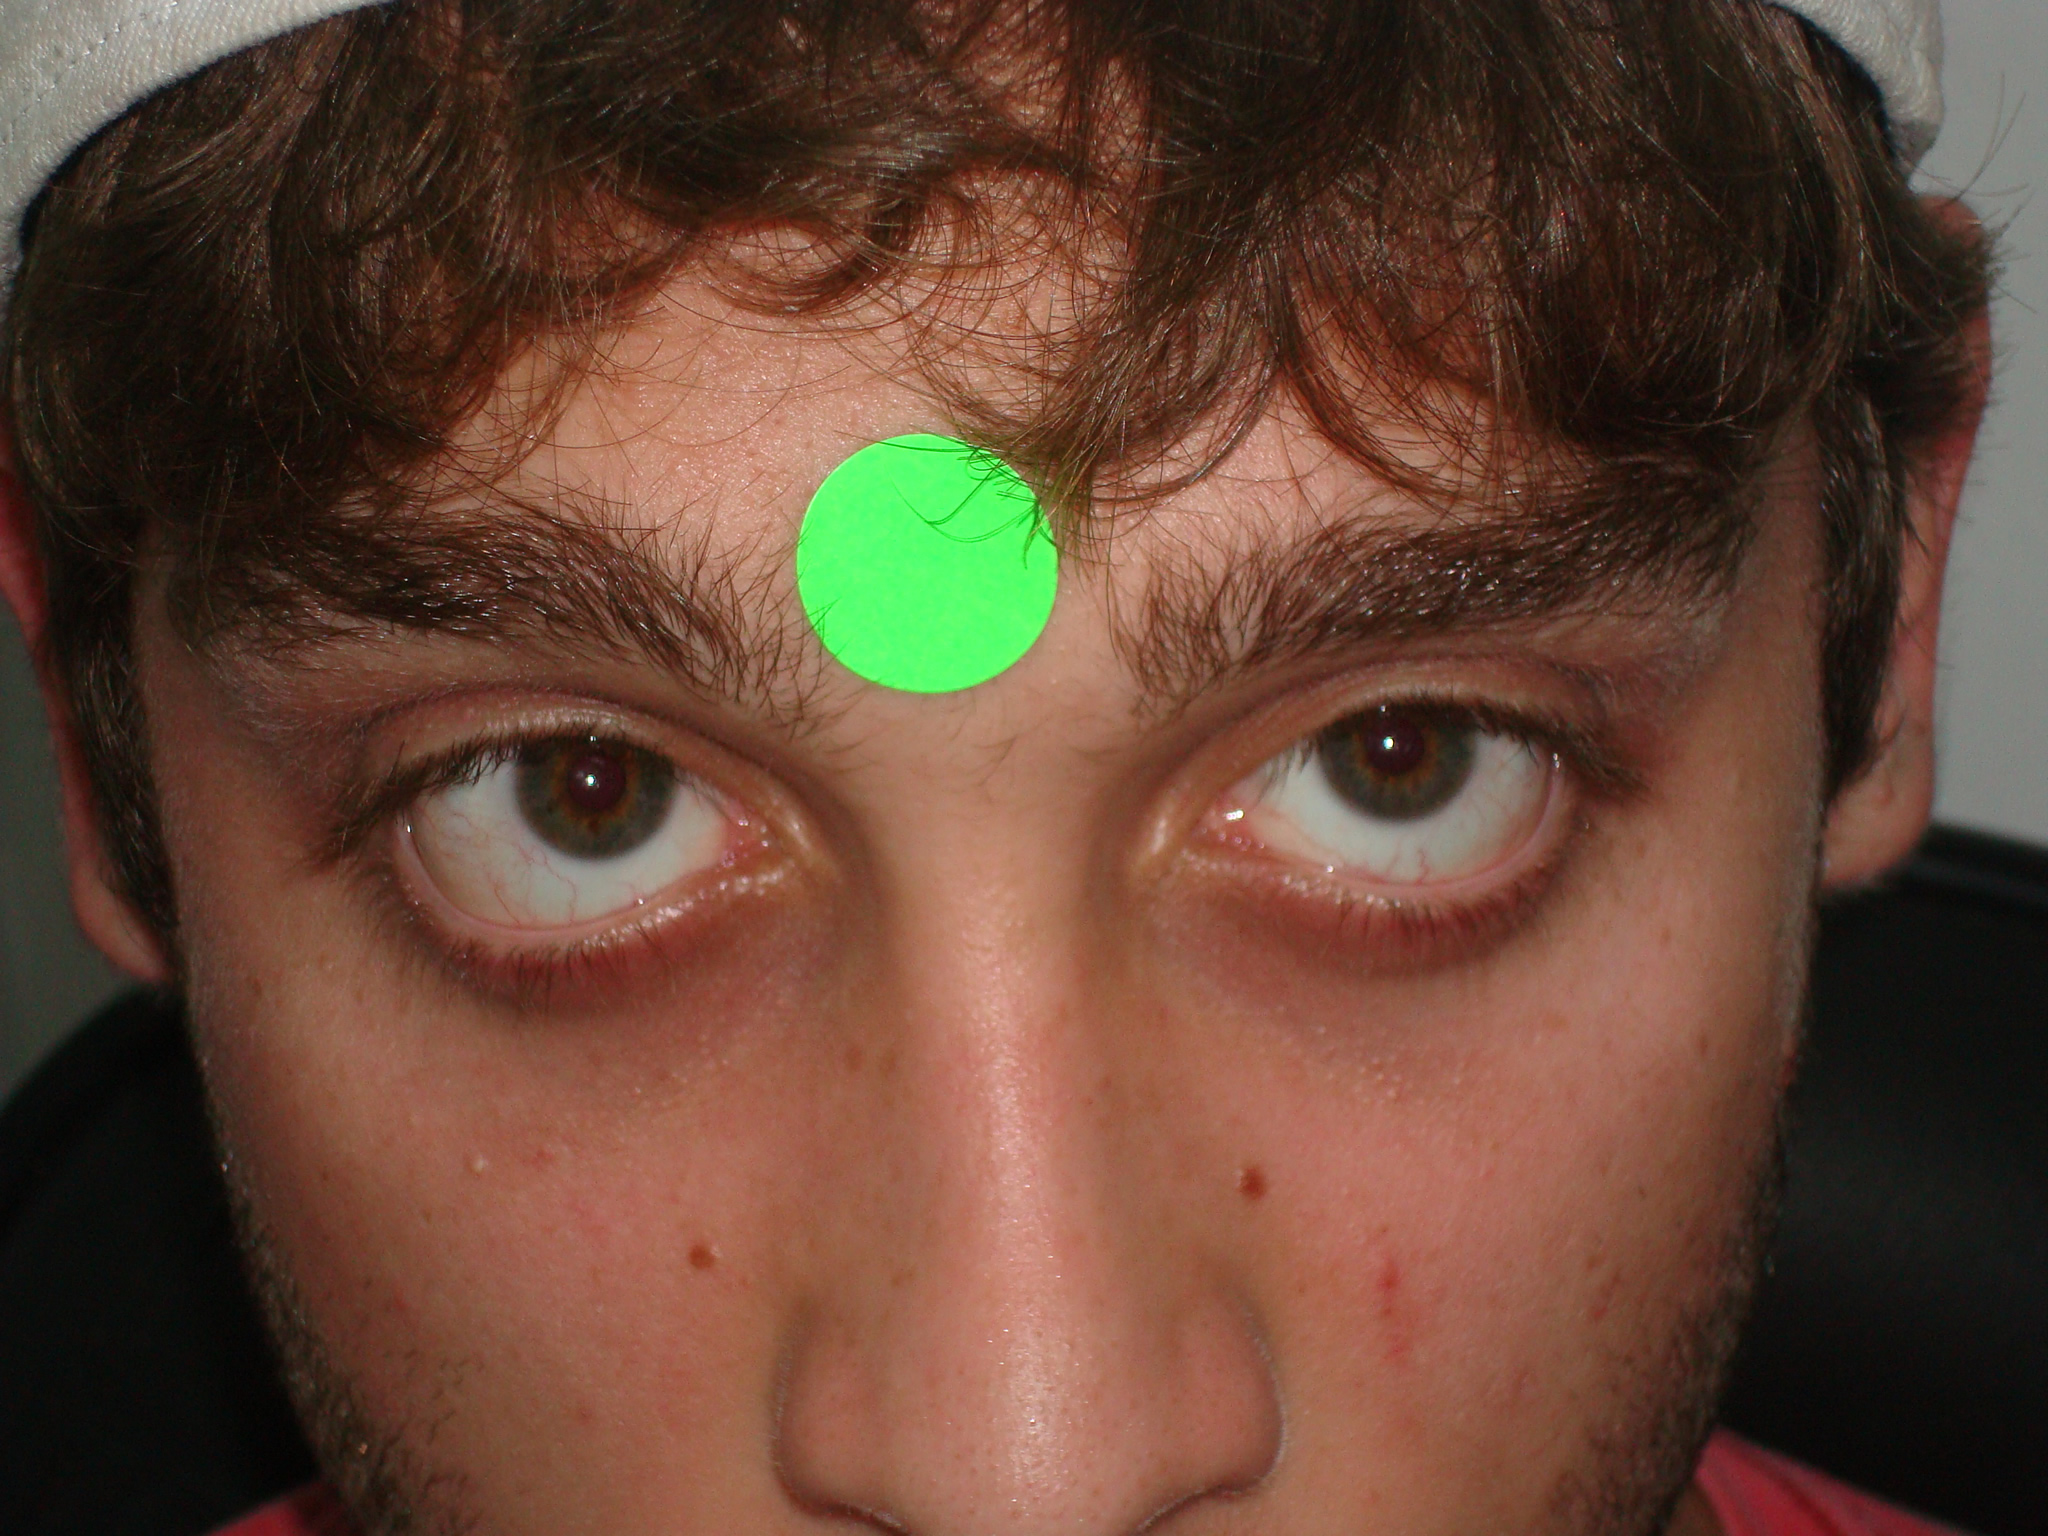flash: (1376, 728, 1403, 757), (579, 766, 603, 794)
limbo: (505, 707, 684, 855), (1316, 676, 1471, 813)
